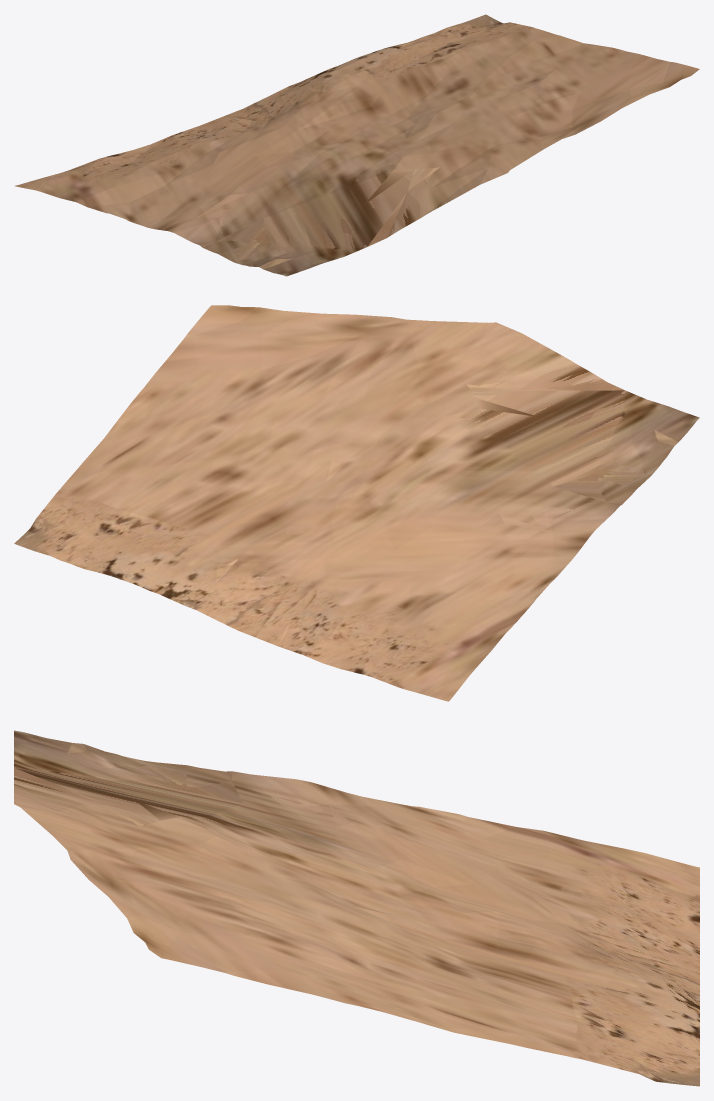
3 views of the same model, one above another, from view 1: azimuth 30°, elevation 25°; view 2: azimuth 150°, elevation 25°; view 3: azimuth 270°, elevation 25° (orthographic). The views are drawn at different scales.
Bounding box in the file's own units: 1.04 × 0.3348 × 1.04.
Materials: 2 (2 with a texture image).
